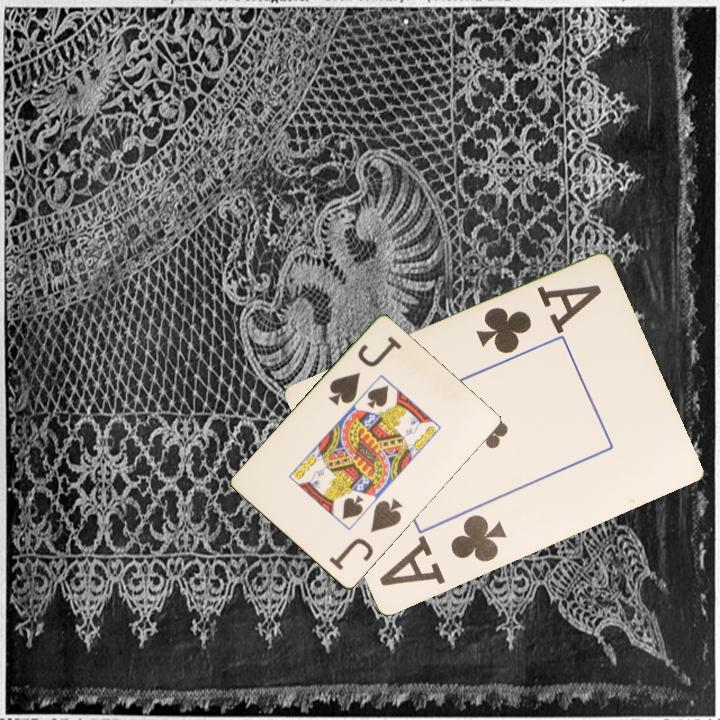Ac: (375, 511, 510, 590), (471, 281, 605, 358)
Js: (325, 494, 405, 573), (324, 333, 405, 410)
